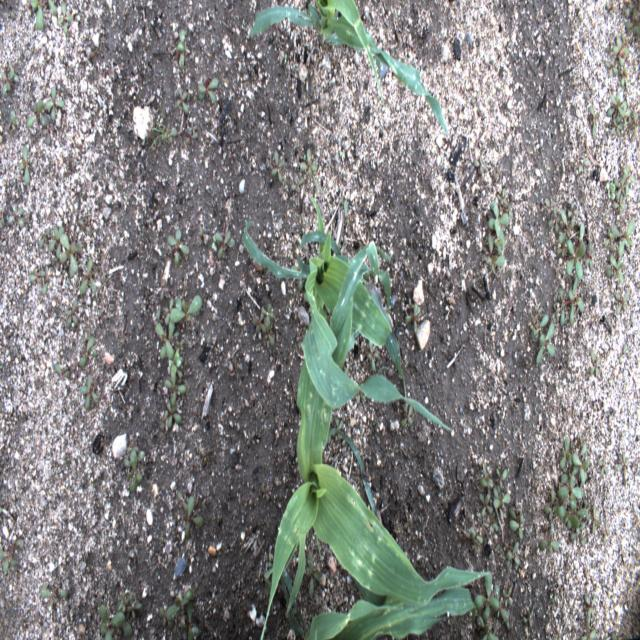crop: (260, 243, 496, 640), (243, 196, 450, 434), (248, 0, 450, 144), (304, 590, 476, 640)
weed: (540, 435, 601, 550), (550, 198, 594, 282), (154, 291, 205, 358), (480, 188, 510, 277), (162, 585, 205, 638), (178, 482, 211, 546), (602, 220, 634, 283), (555, 282, 588, 340), (49, 219, 82, 276), (607, 150, 636, 213), (606, 91, 638, 140), (477, 562, 504, 620), (163, 222, 193, 274), (94, 596, 132, 636), (533, 313, 559, 371), (75, 369, 106, 417), (0, 527, 27, 581), (42, 76, 70, 128), (120, 443, 146, 496), (27, 95, 54, 143), (606, 38, 634, 84), (163, 348, 187, 400), (170, 26, 194, 70), (160, 400, 188, 437), (36, 581, 68, 613), (2, 201, 31, 236), (211, 223, 233, 268), (194, 78, 222, 113), (75, 326, 96, 371), (250, 296, 272, 338), (20, 141, 39, 189), (506, 505, 529, 543), (491, 489, 514, 526), (536, 528, 561, 562), (405, 295, 425, 337), (77, 252, 96, 296), (300, 147, 322, 183), (306, 554, 323, 599), (27, 1, 53, 30), (269, 149, 288, 188), (580, 589, 598, 630), (116, 594, 145, 619), (31, 268, 52, 299), (616, 443, 634, 479), (464, 521, 486, 550), (60, 1, 76, 40), (616, 290, 634, 324), (588, 110, 601, 157), (154, 125, 180, 148), (468, 143, 488, 172), (618, 10, 638, 39), (174, 82, 190, 118), (503, 542, 522, 572), (2, 60, 16, 100), (594, 456, 612, 485), (590, 348, 604, 385), (474, 488, 491, 518), (49, 355, 70, 378), (184, 118, 199, 150), (290, 172, 306, 201), (39, 213, 50, 251), (578, 157, 593, 183), (341, 194, 353, 224), (494, 464, 514, 482), (620, 337, 631, 366), (366, 347, 381, 368), (8, 104, 20, 128), (503, 587, 515, 609), (483, 468, 494, 491), (586, 78, 598, 96), (482, 626, 500, 636), (579, 630, 599, 638)
